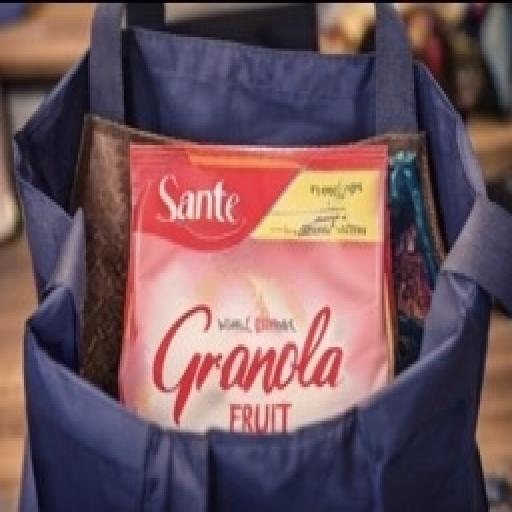granola: (76, 114, 428, 462)
